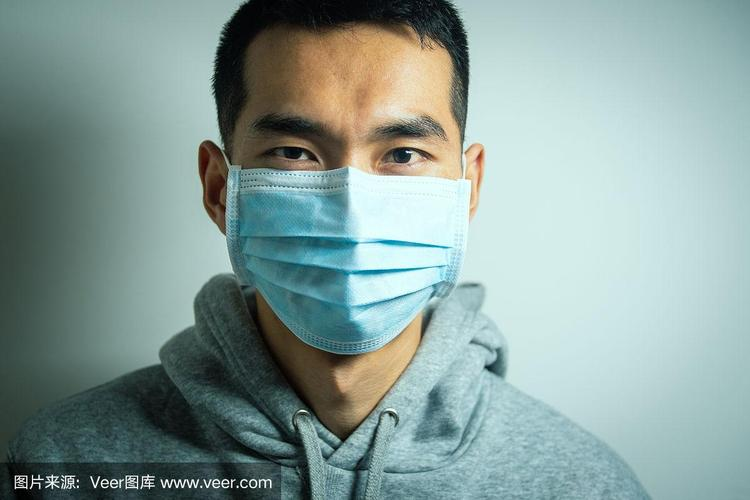mask: (225, 26, 476, 355)
